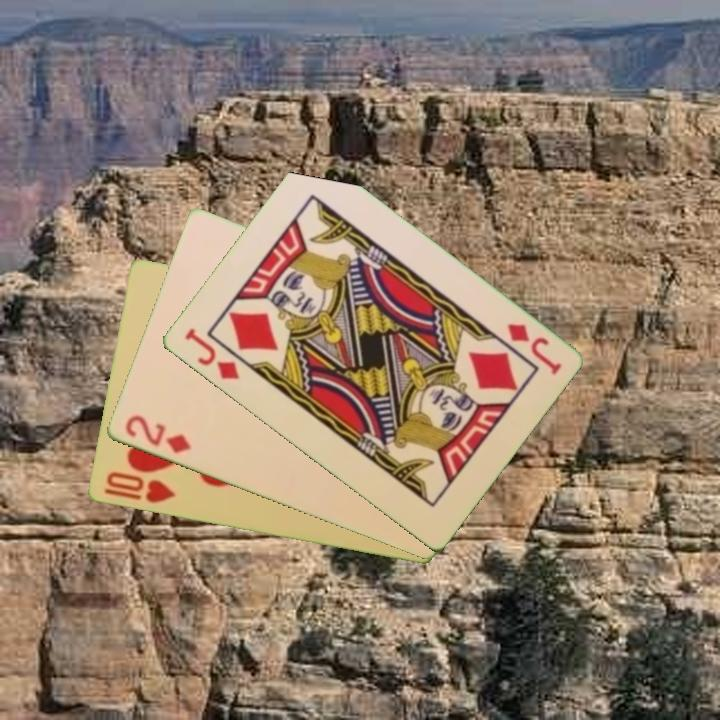10h: (102, 468, 179, 507)
2d: (121, 411, 194, 457)
Jd: (180, 324, 243, 383), (502, 319, 564, 378)
